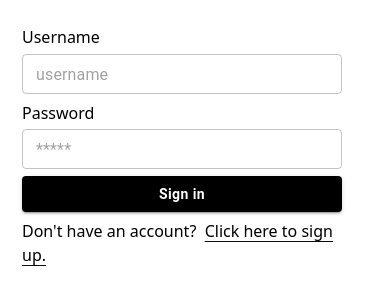
Login › should display an error message with invalid credentials
Type "invalidUsername" into the field named "username" at (182, 74), box 22,54 -> 342,94
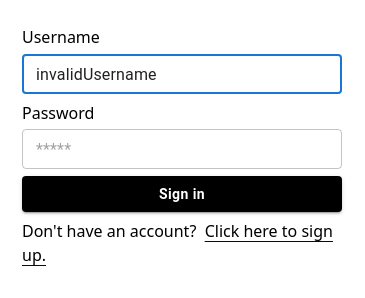
Type "invalidPassword" into the password field named "password" at (182, 149), box 22,129 -> 342,169
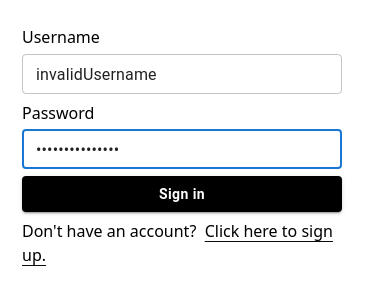
Click the submit button at (182, 195), box 22,176 -> 342,213
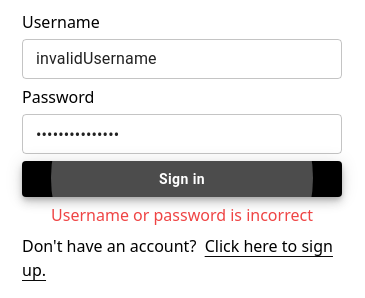
Expected: the text "Username or password is incorrect" is shown, 51,203 -> 313,227
